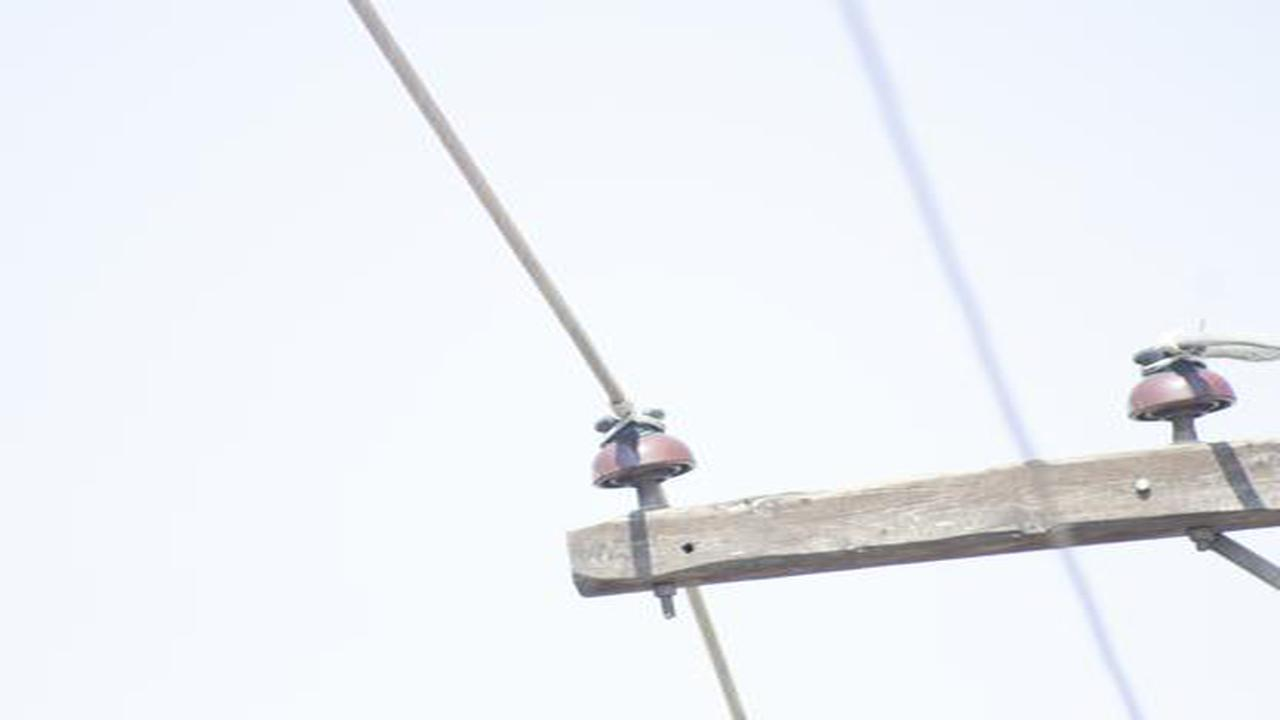insulator_pin: (1126, 338, 1242, 427), (583, 403, 698, 491)
